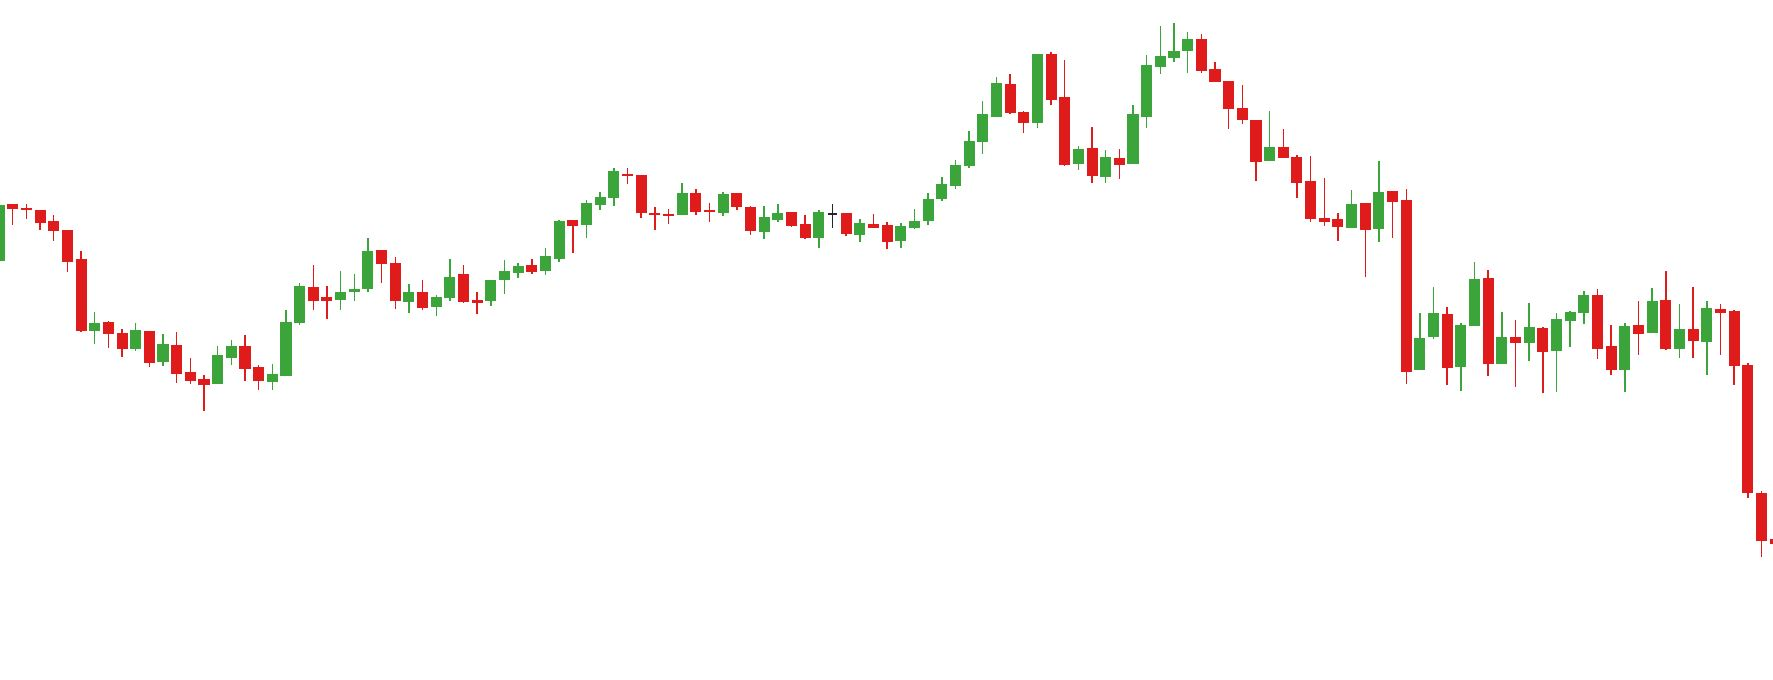sell: (1029, 24, 1208, 119), (1576, 272, 1675, 339), (1317, 160, 1396, 240)
